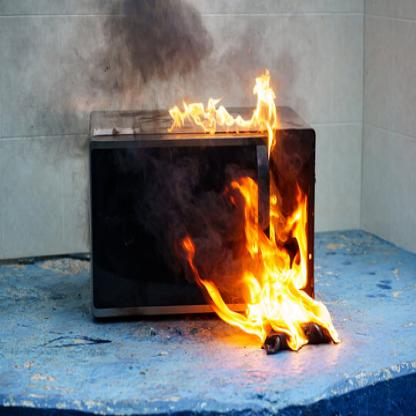fire: (168, 70, 346, 363)
smoke: (2, 0, 326, 169)
